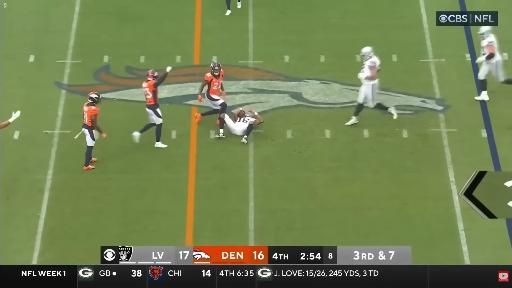Helmet: (360, 47, 373, 60), (87, 92, 100, 104), (479, 27, 491, 39), (211, 62, 221, 75), (147, 70, 158, 79), (246, 114, 251, 118)
Jersey: (481, 34, 501, 62), (205, 70, 223, 97), (143, 80, 158, 107), (83, 103, 99, 127), (361, 56, 380, 75), (235, 117, 255, 129)
Player: (346, 47, 397, 125), (133, 67, 171, 147), (475, 27, 511, 101), (195, 62, 227, 128), (82, 92, 106, 170), (220, 109, 263, 143), (0, 111, 20, 129), (226, 0, 231, 15)
